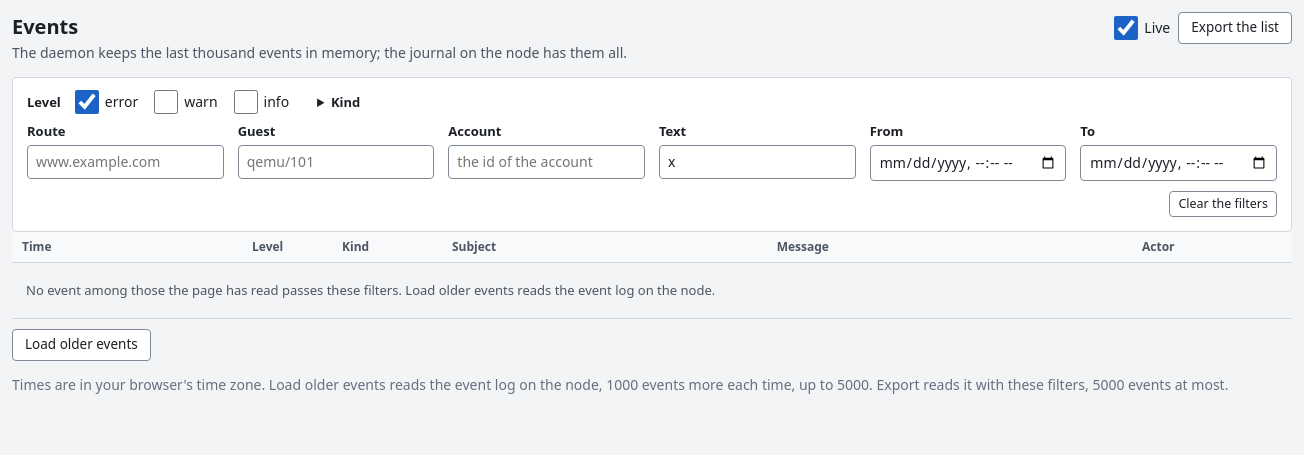
Test: the filters and the address › clearing the filters empties the address
This screenshot has width=1304, height=455.
Click the button "Clear the filters" at {"x": 1223, "y": 204}, box x1=1169 y1=191 x2=1277 y2=217
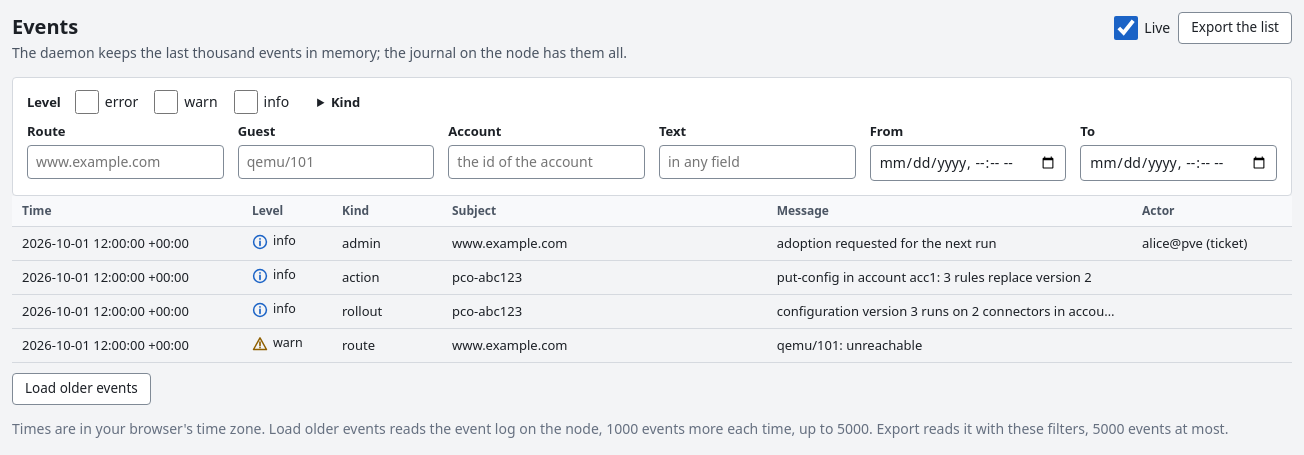
Expected: the button "Clear the filters" is gone
